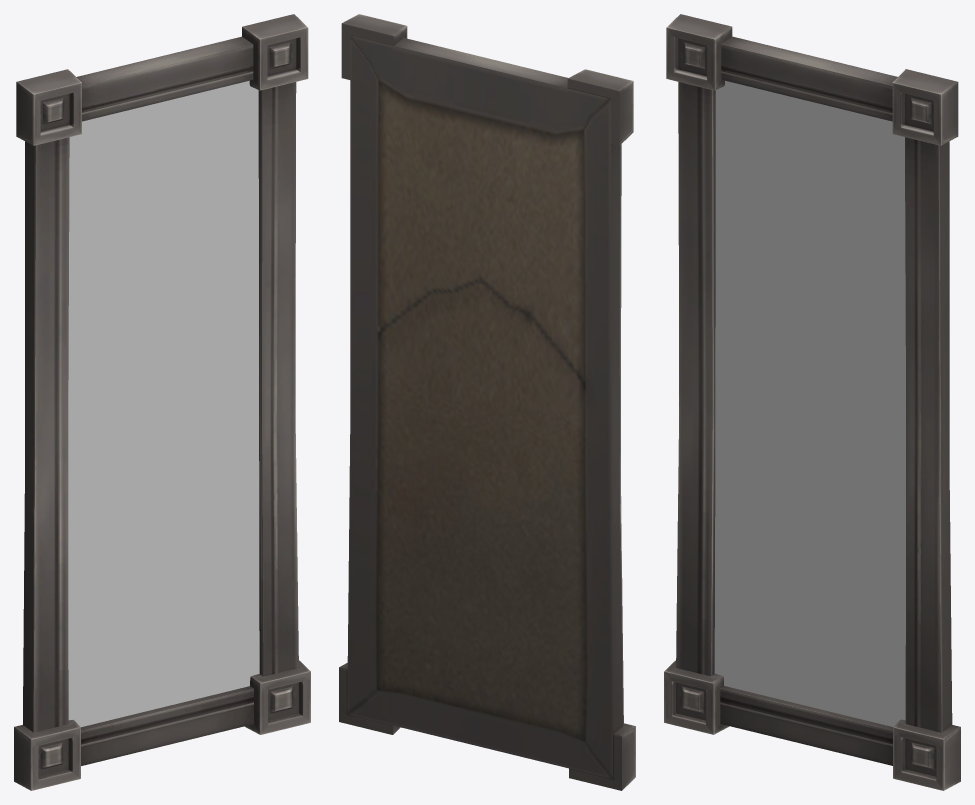
The model's file is mirror_full.fbx.
3 renders of one model, left to right at view 1: azimuth 30°, elevation 25°; view 2: azimuth 150°, elevation 25°; view 3: azimuth 330°, elevation 25°, orthographic.
Parts seen in each view (by area): view 1: obj3, obj2; view 2: obj2; view 3: obj3, obj2.
Boxes of the visible parts, box(x1,y1,x2,y2) form: obj3: box(68, 80, 259, 727); obj2: box(14, 14, 310, 790); obj2: box(339, 14, 635, 790); obj3: box(714, 80, 905, 726); obj2: box(664, 14, 960, 790).
Bounding box in the file's own units: 175 × 414 × 16.82.
2 materials, 1 textured.
